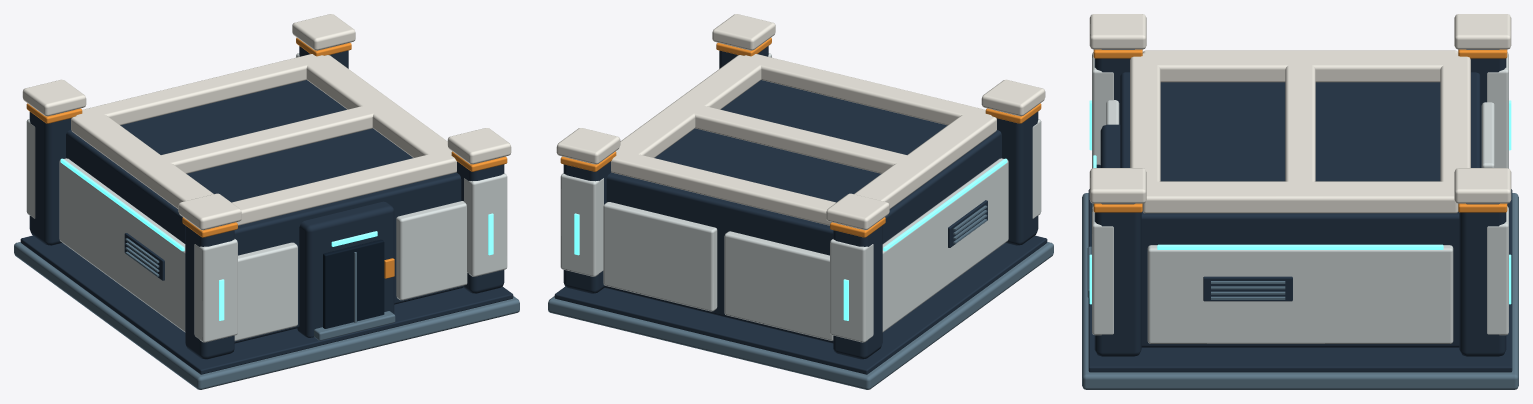
Rendered from workshop-base.glb.
3 views of the same model, side by side, from view 1: azimuth 30°, elevation 25°; view 2: azimuth 150°, elevation 25°; view 3: azimuth 270°, elevation 25° (orthographic). The views are drawn at different scales.
Parts seen in each view (by area): view 1: inner-volume, foundation-inlay, side-wall--1, foundation-4-by-4, front-panel-1, door-frame, roof-cross-1.42, roof-cross-0, roof-cross--1.42, front-panel--1, roof-rail-1, roof-rail--1 (+15 smaller); view 2: inner-volume, foundation-inlay, rear-panel-1, side-wall--1, rear-panel--1, foundation-4-by-4, roof-cross--1.42, roof-cross-1.42, roof-cross-0, roof-rail-1, roof-rail--1, corner-shell-1.67--1.67 (+12 smaller); view 3: inner-volume, side-wall-1, foundation-inlay, foundation-4-by-4, roof-rail-1, roof-rail--1, corner-1.67--1.67, corner-1.67-1.67, roof-cross-0, roof-cross-1.42, roof-cross--1.42, corner-shell-1.67--1.67 (+17 smaller).
Boxes of the visible parts, x1,y1,x2,y2 form: inner-volume: (66,80,462,343); foundation-inlay: (20,235,513,374); side-wall--1: (59,158,185,332); foundation-4-by-4: (14,242,519,389); front-panel-1: (396,201,467,300); door-frame: (297,201,394,337); roof-cross-1.42: (232,153,456,225); roof-cross-0: (141,101,393,173); roof-cross--1.42: (76,54,327,125); front-panel--1: (234,242,297,341); roof-rail-1: (304,55,451,157); roof-rail--1: (71,111,213,208); inner-volume: (605,80,1001,343); foundation-inlay: (554,235,1047,374); rear-panel-1: (603,202,717,311); side-wall--1: (882,158,1008,332); rear-panel--1: (724,231,833,340); foundation-4-by-4: (548,242,1053,389); roof-cross--1.42: (611,153,835,225); roof-cross-1.42: (740,54,991,125); roof-cross-0: (674,101,925,173); roof-rail-1: (616,55,764,157); roof-rail--1: (854,111,996,208); corner-shell-1.67--1.67: (560,173,603,276); inner-volume: (1120,72,1480,347); side-wall-1: (1147,245,1453,343); foundation-inlay: (1088,189,1512,372); foundation-4-by-4: (1082,193,1518,389); roof-rail-1: (1142,181,1458,213); roof-rail--1: (1143,50,1457,82); corner-1.67--1.67: (1459,203,1506,356); corner-1.67-1.67: (1094,203,1141,356); roof-cross-0: (1285,53,1315,189); roof-cross-1.42: (1130,53,1160,187); roof-cross--1.42: (1440,53,1470,186); corner-shell-1.67--1.67: (1487,206,1508,335).
Bounding box in the file's own units: 4 × 2 × 4.
